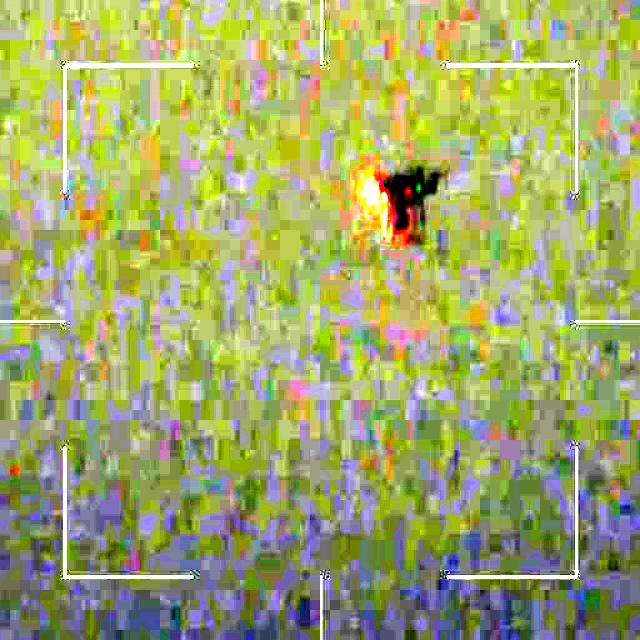bird: (354, 158, 440, 244)
